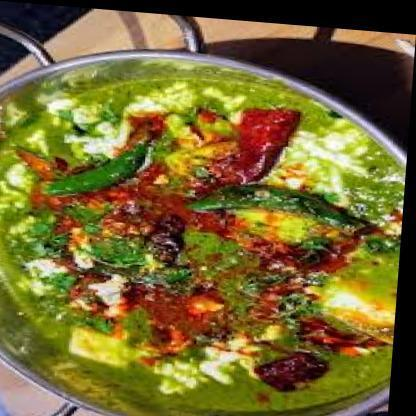palak_paneer: (0, 62, 412, 416)
